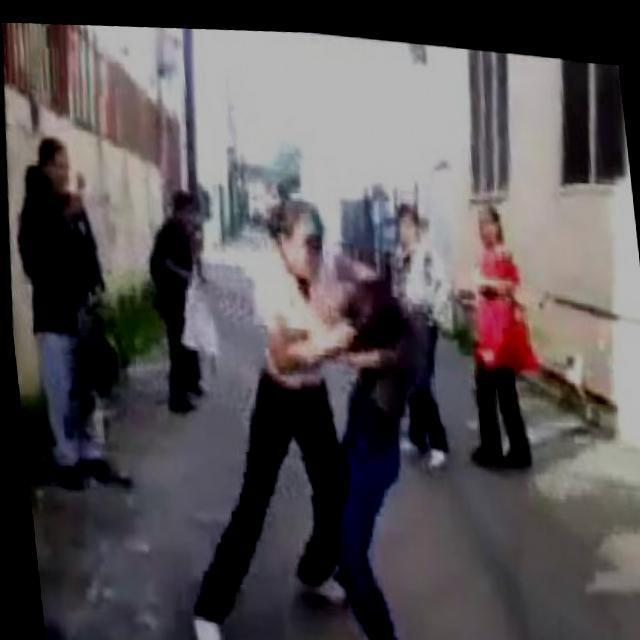fight: (183, 161, 444, 640)
